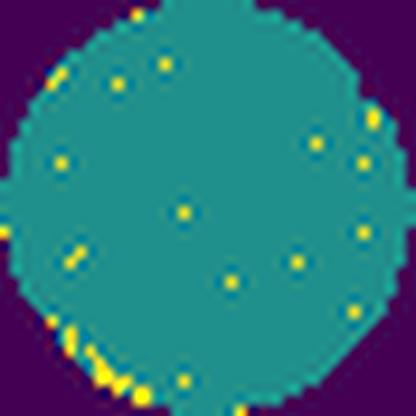Edge-Loc: (86, 340, 154, 407)
